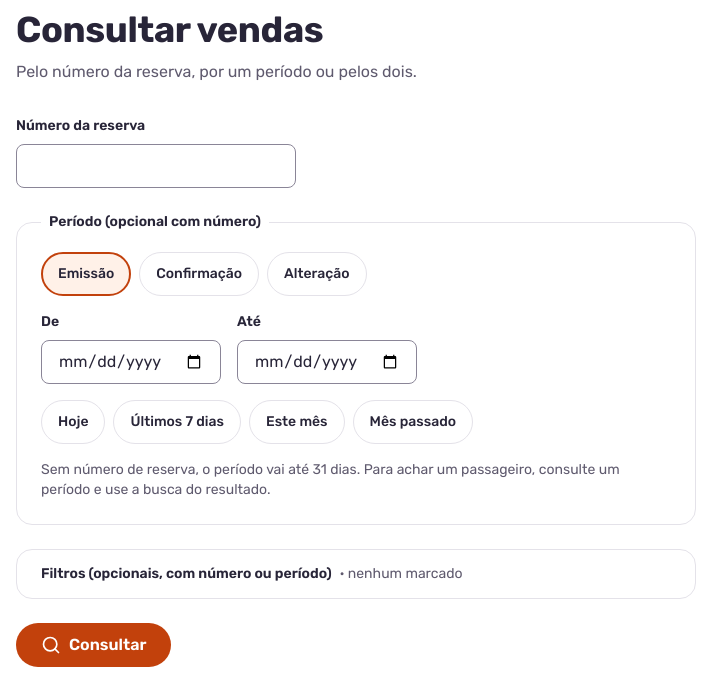
Scenario: atalho de período preenche De e Até no dia de Fortaleza
Step 1. Click the button "Últimos 7 dias" → (177, 422), box [114,400,241,444]
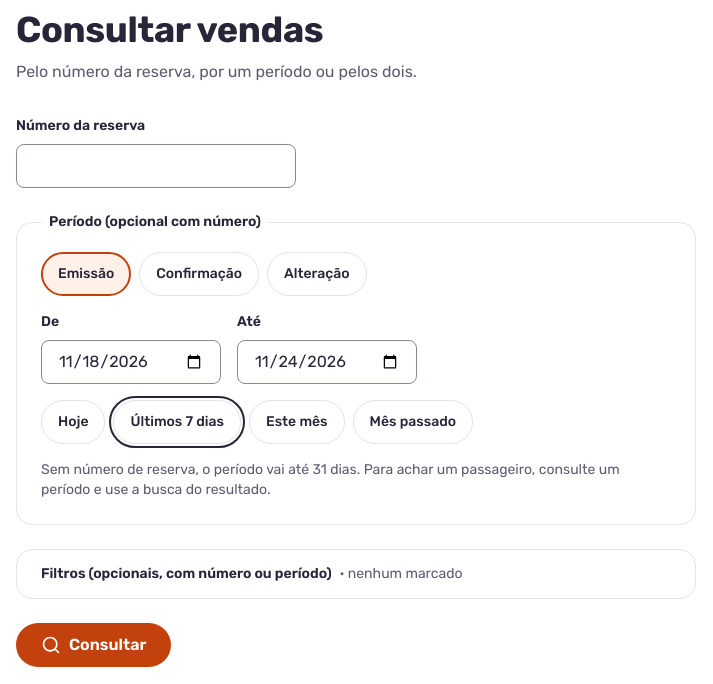
Now the date field labelled "De" holds "2026-11-18", box [41,340,221,384]
Now the date field labelled "Até" holds "2026-11-24", box [237,340,417,384]
Step 2. Click the button "Mês passado" → (413, 422), box [353,400,473,444]
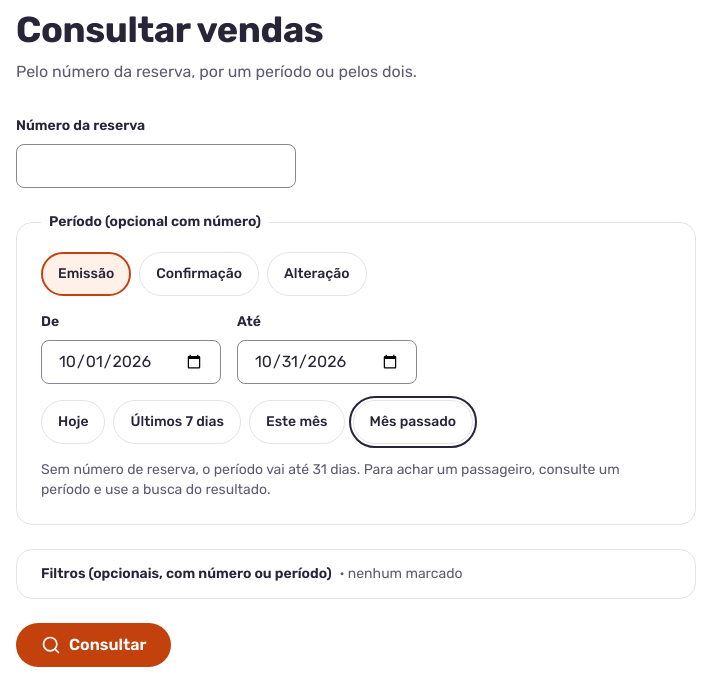
Now the date field labelled "De" holds "2026-10-01", box [41,340,221,384]
Now the date field labelled "Até" holds "2026-10-31", box [237,340,417,384]
